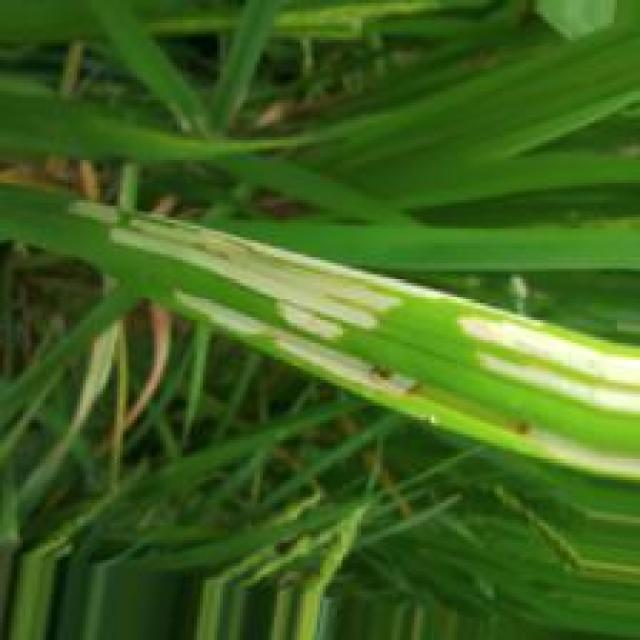Rice_Hispa: (72, 190, 450, 343), (189, 291, 416, 395), (452, 305, 640, 409)
